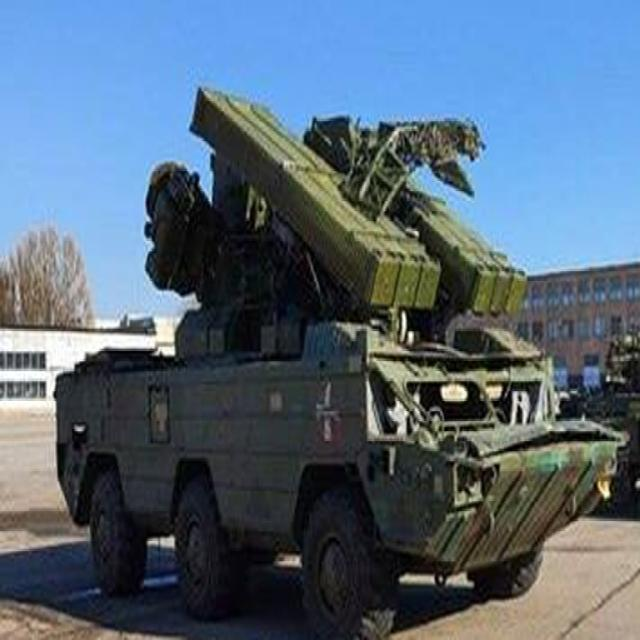MLRS: (49, 67, 614, 629)
